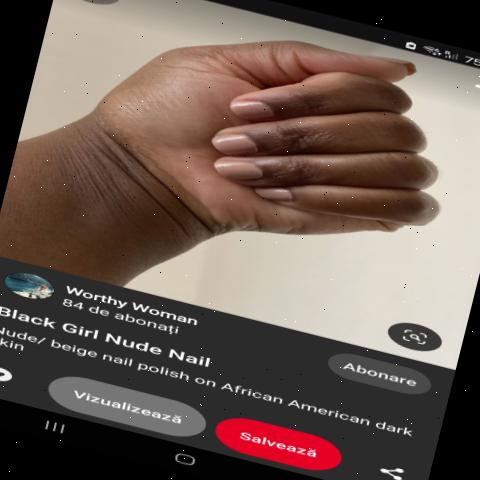hands: (48, 0, 480, 315)
